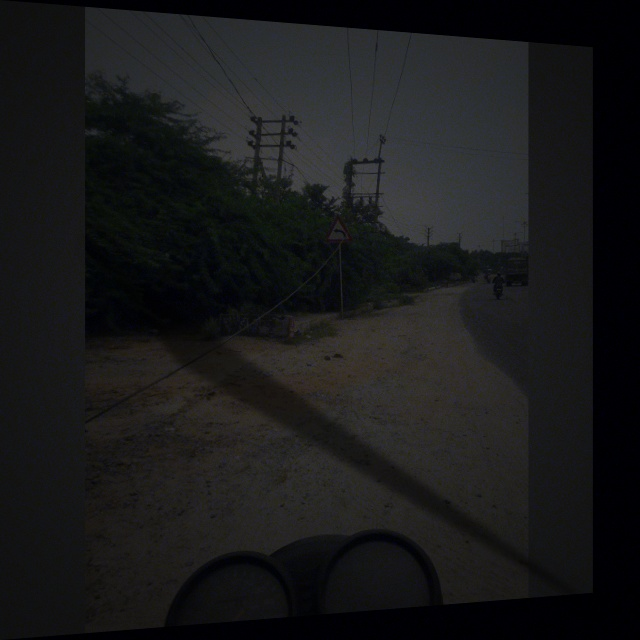Left_Hand_Curve: (324, 215, 353, 245)
